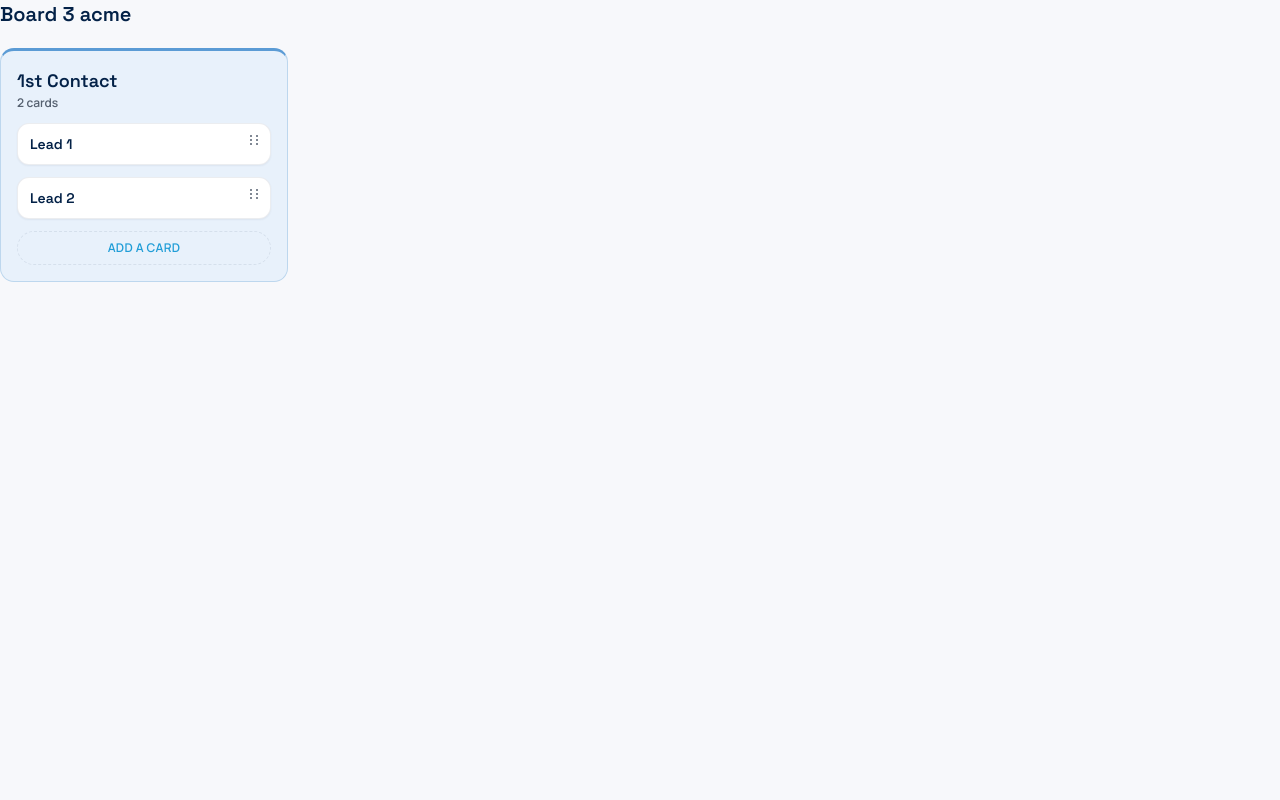
Scenario: CentralBoardView card history › HTTP 401 is shown as an error, not as an empty history
Click the button "Lead 1" at (144, 144), box [30,134,258,154]
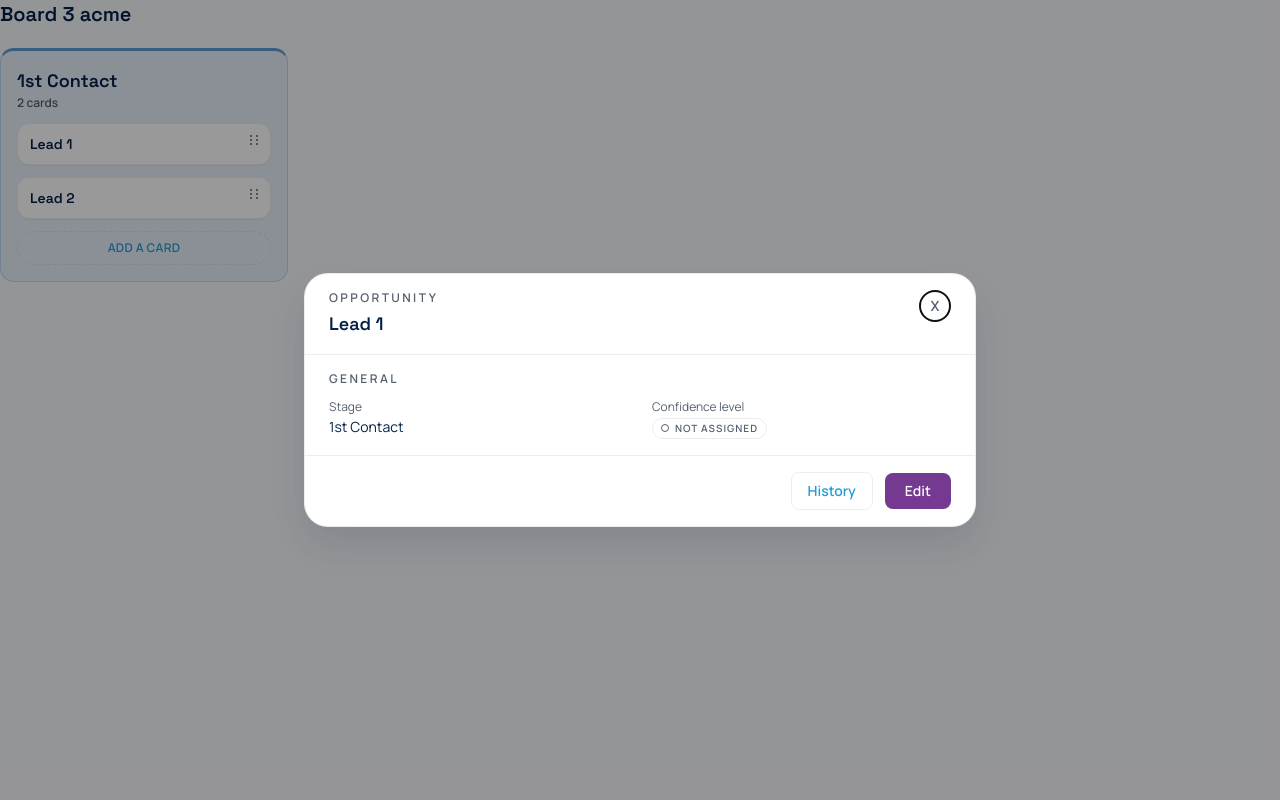
Click the button "History" at (832, 491), box [791,472,873,510]
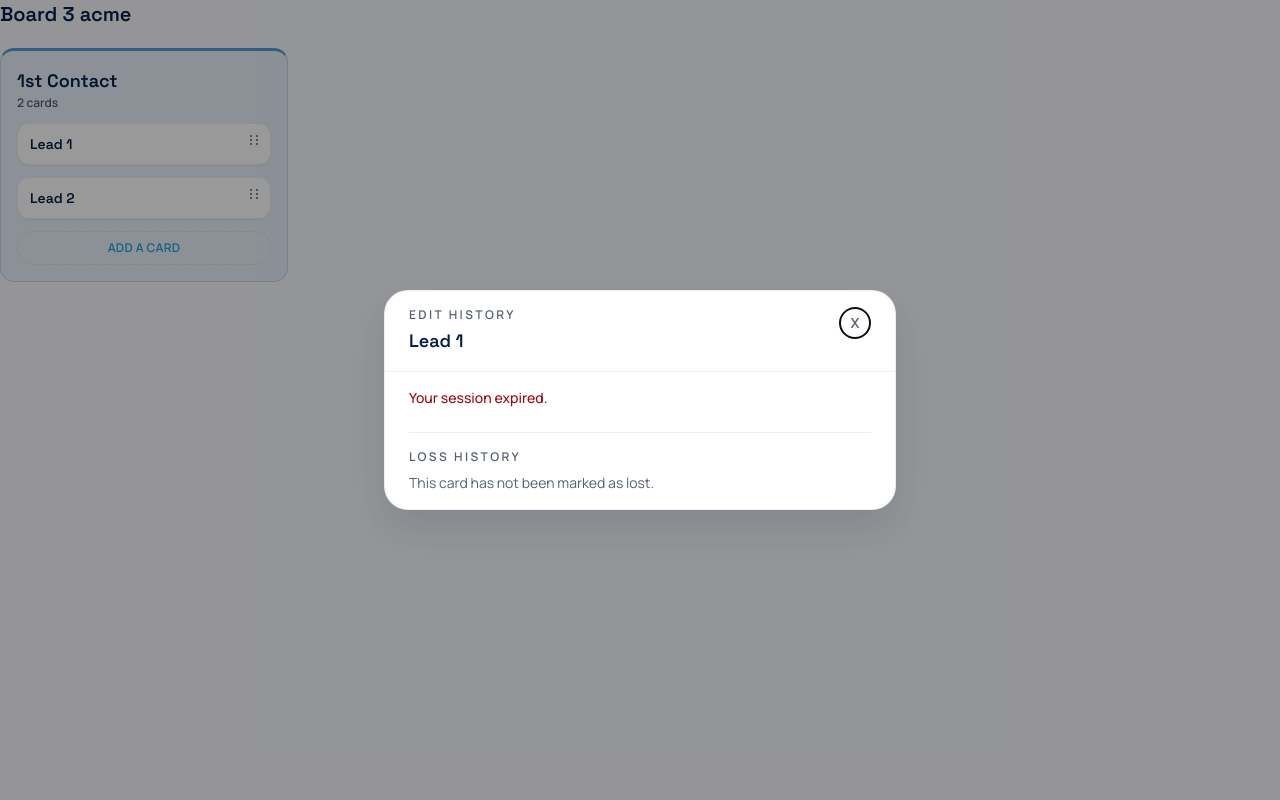
Expected: the message reads "Your session expired.", [409,388,548,407]
